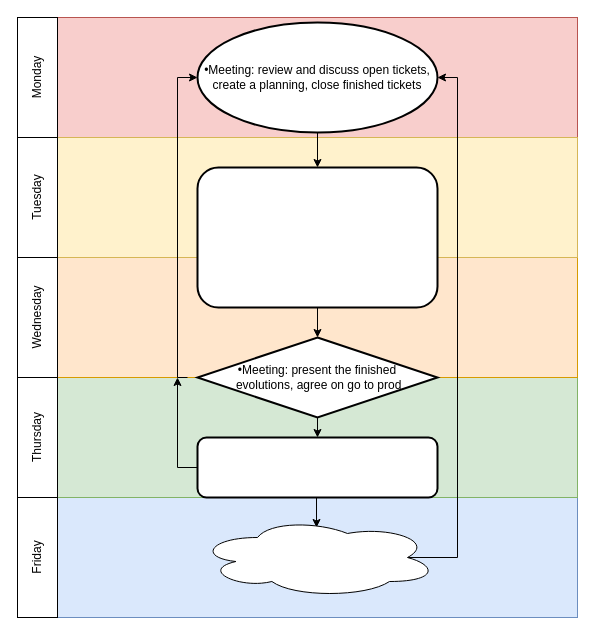
The diagram is 595 pixels wide and 635 high, and some of its shapes have lost their labels. Each missing label, with the box of its shape:
Delivery to prod: (196, 516, 438, 598)
•Task: hand over the agreed evolutions to the Delivery Team: (196, 436, 438, 498)
•Task: work on evolution of the agreed tickets: (196, 166, 438, 308)
